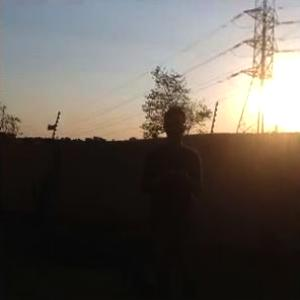follow: (137, 99, 205, 299)
